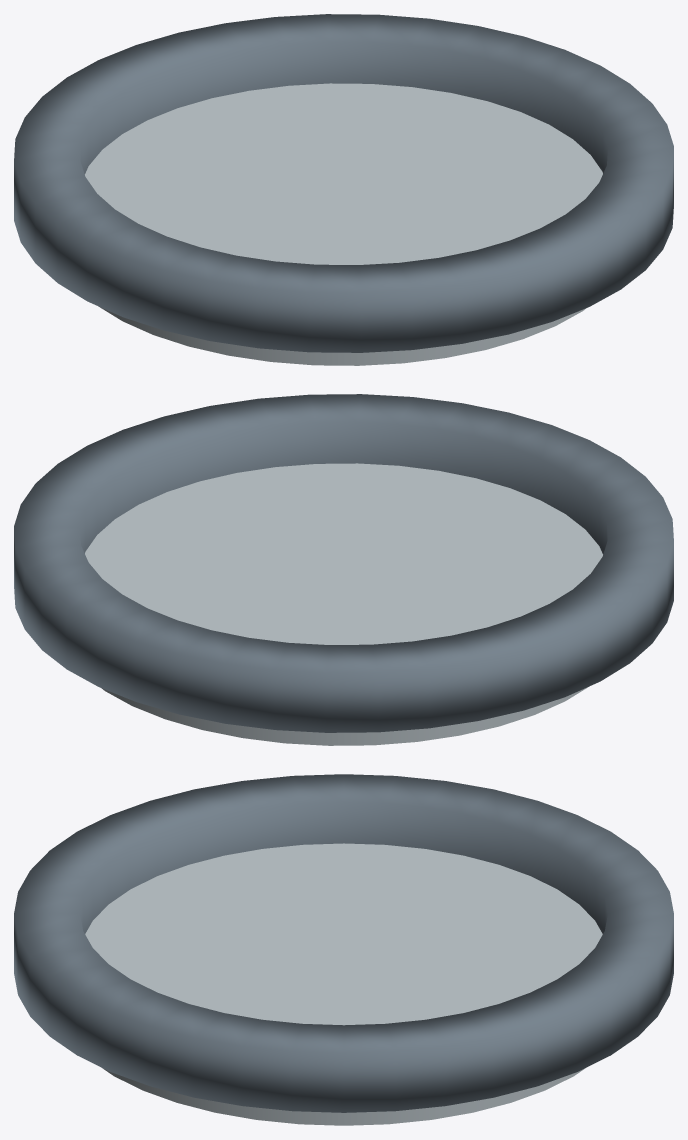
File: orion_cm.upper_hatch.glb
The picture shows the model from 3 angles, top to bottom: view 1: azimuth 30°, elevation 25°; view 2: azimuth 150°, elevation 25°; view 3: azimuth 270°, elevation 25°; orthographic projection.
Parts seen in each view (by area): view 1: orion_cm.upper_hatch.mesh_Machined_steel, orion_cm.upper_hatch.mesh_Satin_aluminum; view 2: orion_cm.upper_hatch.mesh_Machined_steel, orion_cm.upper_hatch.mesh_Satin_aluminum; view 3: orion_cm.upper_hatch.mesh_Machined_steel, orion_cm.upper_hatch.mesh_Satin_aluminum.
Part boxes in pixels (left/top/right/bottom): orion_cm.upper_hatch.mesh_Machined_steel: left=14, top=14, right=673, bottom=352; orion_cm.upper_hatch.mesh_Satin_aluminum: left=85, top=83, right=602, bottom=365; orion_cm.upper_hatch.mesh_Machined_steel: left=14, top=394, right=673, bottom=732; orion_cm.upper_hatch.mesh_Satin_aluminum: left=85, top=463, right=602, bottom=745; orion_cm.upper_hatch.mesh_Machined_steel: left=14, top=774, right=673, bottom=1112; orion_cm.upper_hatch.mesh_Satin_aluminum: left=85, top=843, right=602, bottom=1125.
Size of the model in its own units: 1.3 by 0.2 by 1.3.
